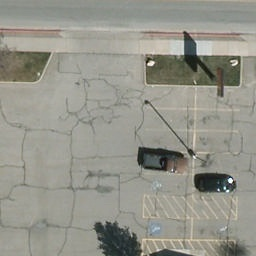car: (196, 178, 235, 193)
pickup: (142, 151, 187, 176)
